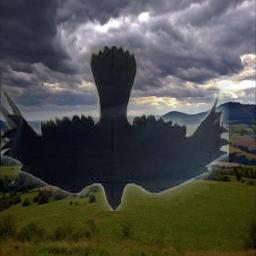Crow: (1, 47, 229, 212)
